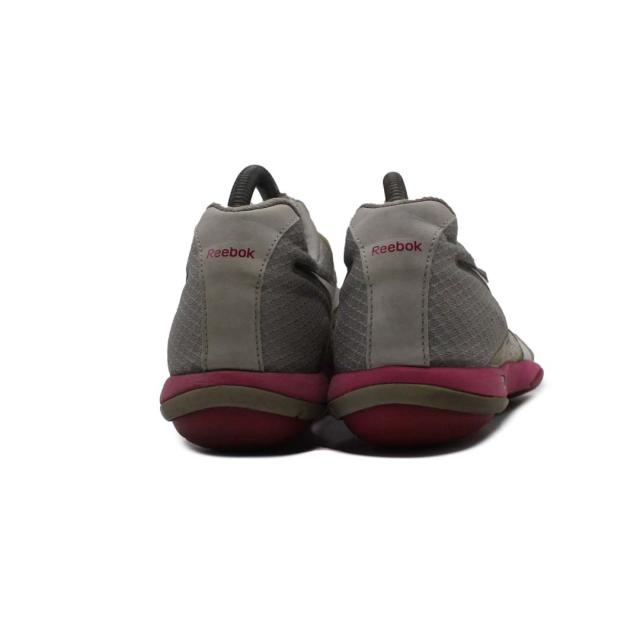heel: (335, 194, 507, 369), (177, 194, 319, 367)
midsole: (155, 378, 522, 457)
